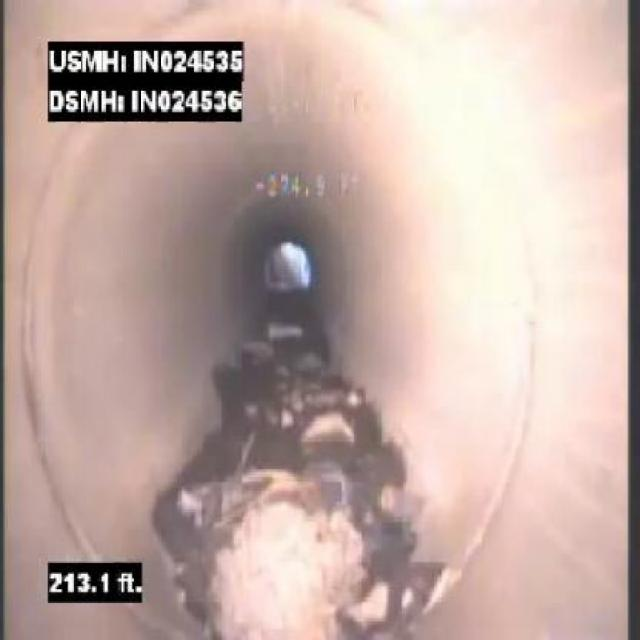Debris: (174, 469, 432, 637)
